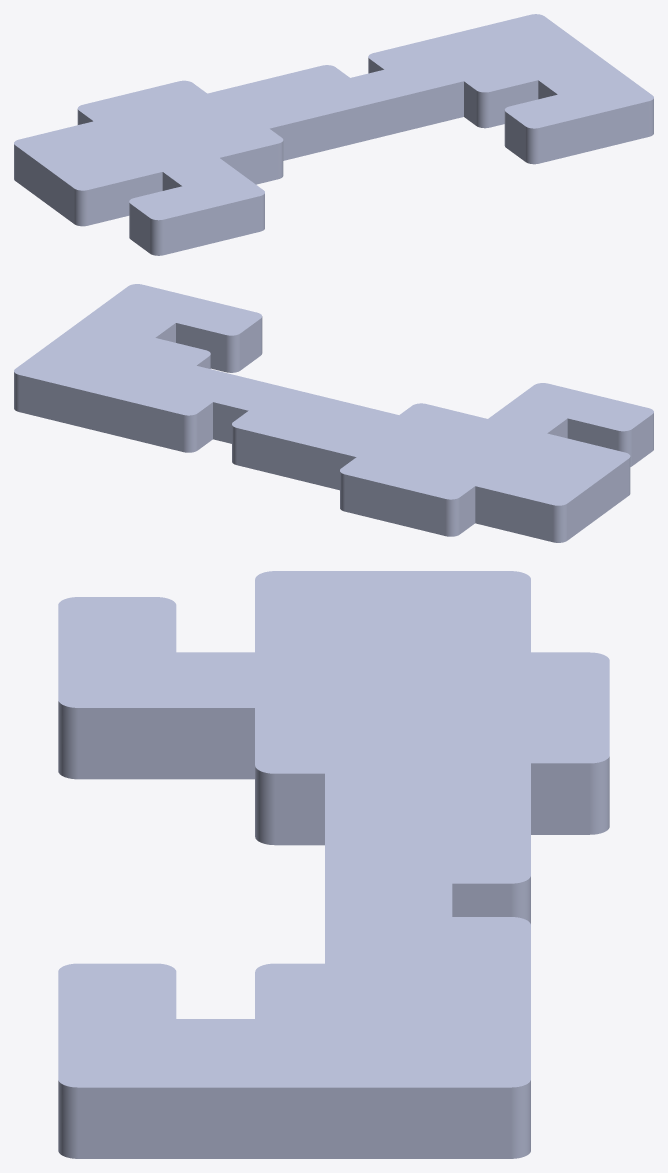
File: ara-c5-rev1.glb
3 renders of one model, top to bottom at view 1: azimuth 30°, elevation 25°; view 2: azimuth 150°, elevation 25°; view 3: azimuth 270°, elevation 25°, orthographic. The views are drawn at different scales.
Parts seen in each view (by area): view 1: ARA_C5_Rev1; view 2: ARA_C5_Rev1; view 3: ARA_C5_Rev1.
Boxes of the visible parts, box(x1,y1,x2,y2) form: ARA_C5_Rev1: box(14, 14, 653, 255); ARA_C5_Rev1: box(14, 284, 653, 542); ARA_C5_Rev1: box(58, 571, 609, 1158).
Bounding box in the file's own units: 0.0465 × 0.003 × 0.021.
